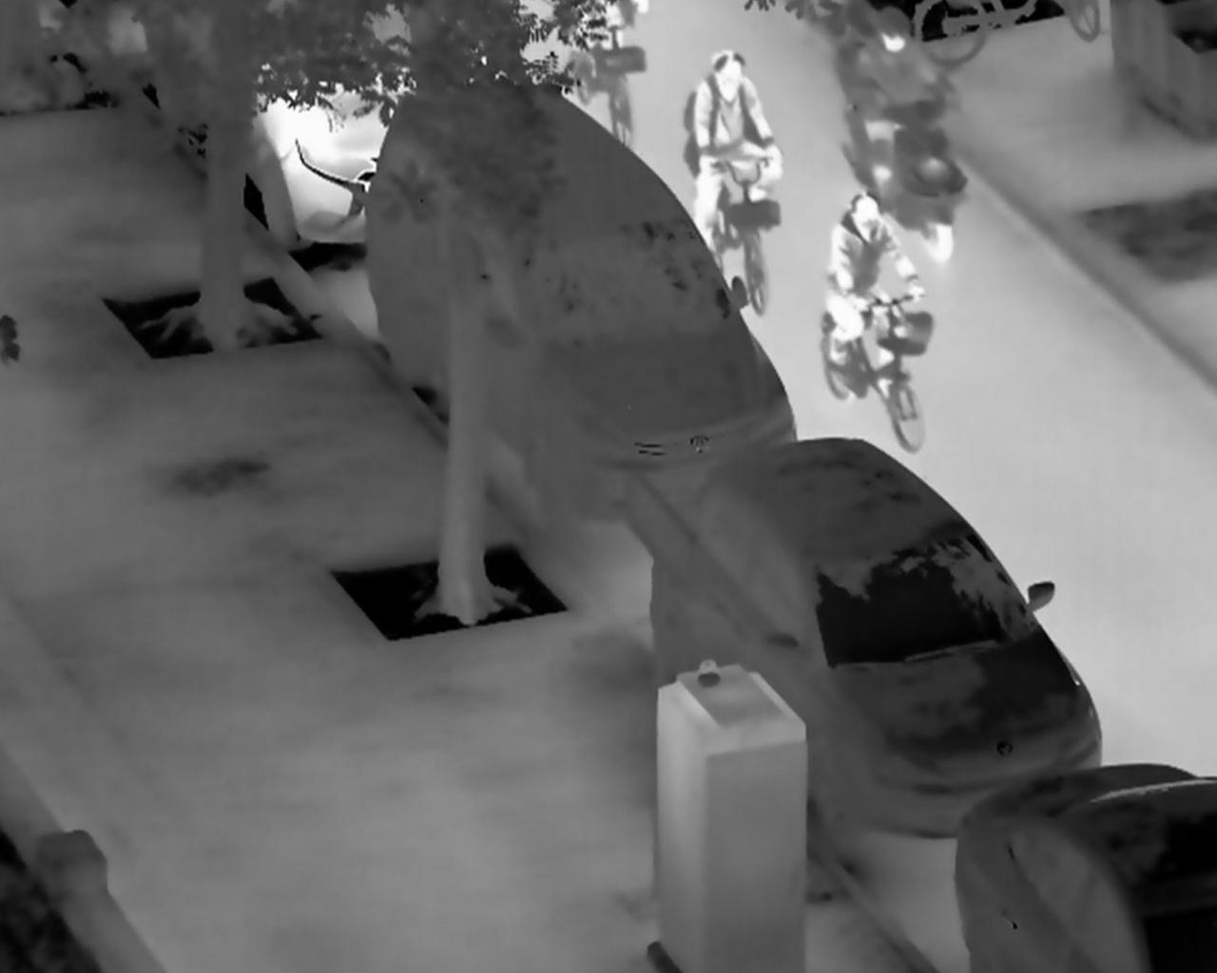person: (853, 7, 964, 199), (683, 48, 783, 260), (819, 191, 924, 371)
